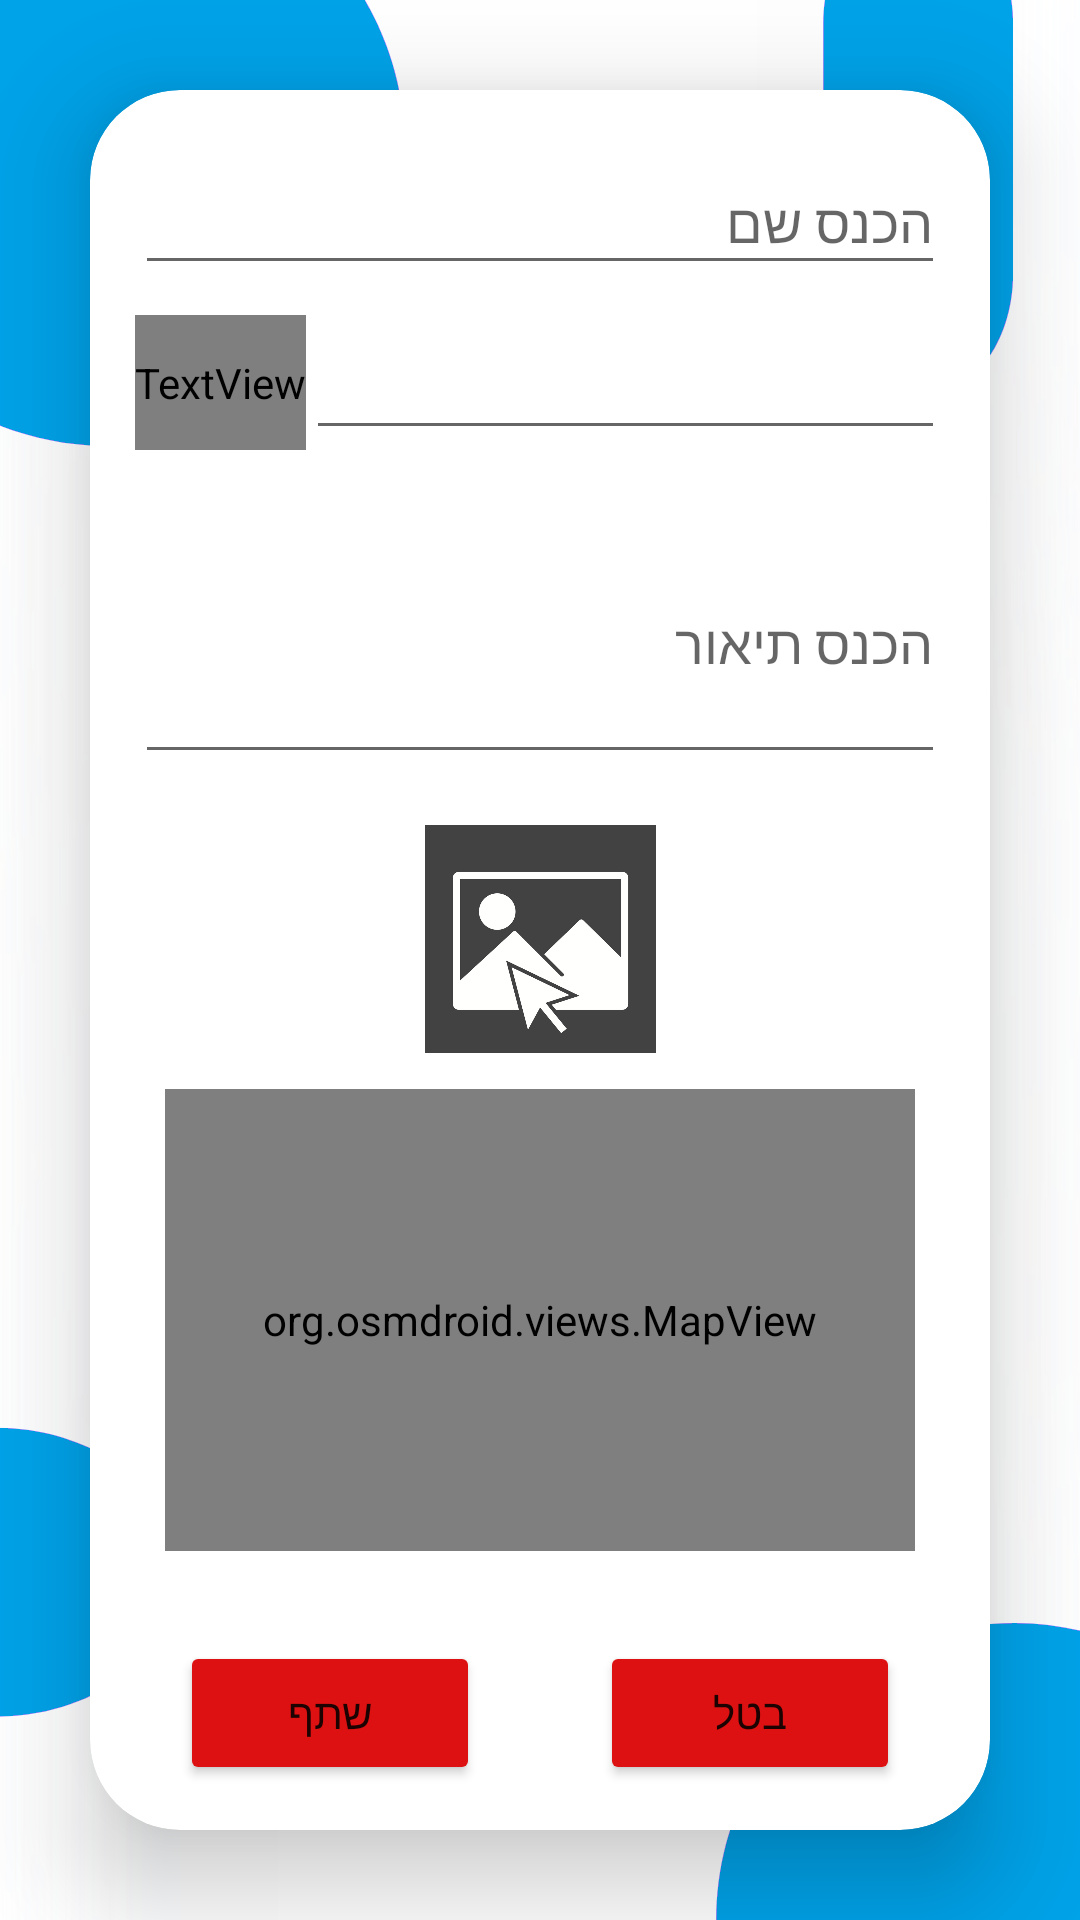

Where to tap for icons on this 1080w x 1920h app screen, as (x,y):
select: (540,939)
